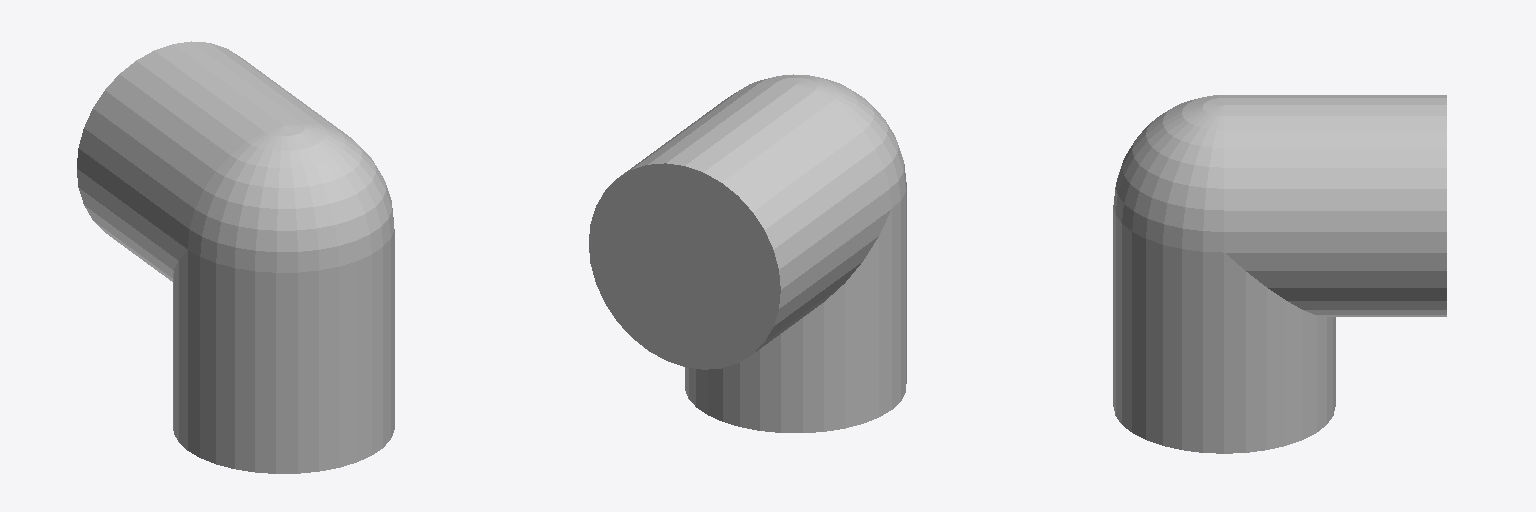
The model's file is bend2.obj.
The picture shows the model from 3 angles: view 1: azimuth 30°, elevation 25°; view 2: azimuth 150°, elevation 25°; view 3: azimuth 270°, elevation 25°; orthographic projection.
Bounding box in the file's own units: 2 × 3 × 3.